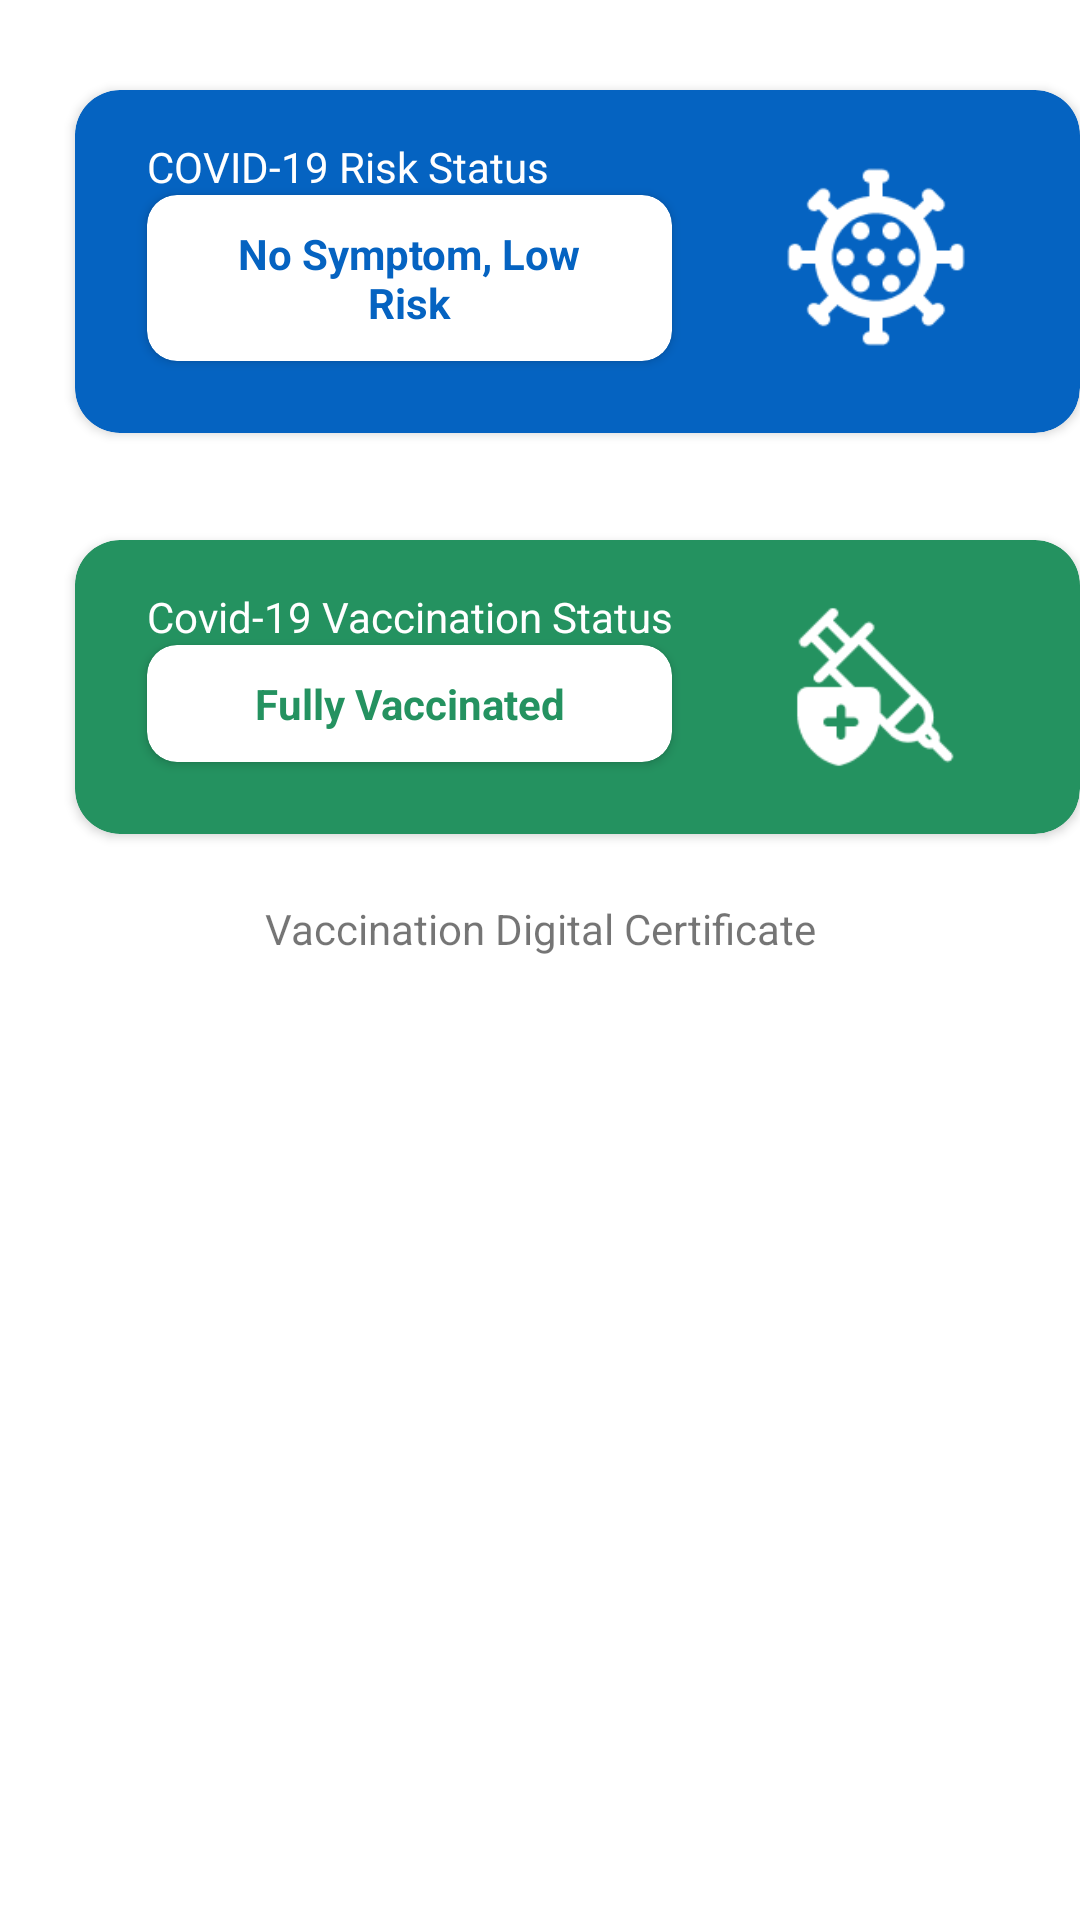

Locate icon controls on the screen. Image size 1080w x 1920h, boxes as (left=x1, top=y1, right=x2, bottom=y2).
coronavirus: (left=787, top=168, right=965, bottom=346)
syringe: (left=797, top=608, right=954, bottom=766)
